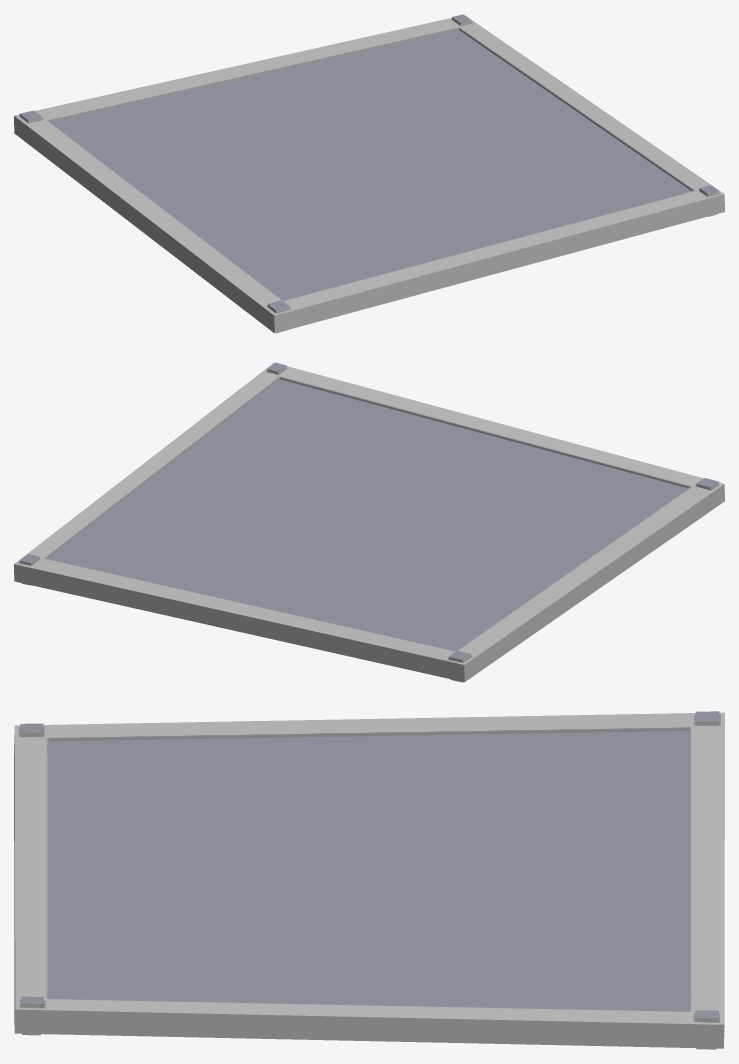
File: resources_alt_metal.fbx
3 renders of one model, top to bottom at view 1: azimuth 30°, elevation 25°; view 2: azimuth 150°, elevation 25°; view 3: azimuth 270°, elevation 25°, orthographic. The views are drawn at different scales.
Parts seen in each view (by area): view 1: AlternateMetal; view 2: AlternateMetal; view 3: AlternateMetal.
Part boxes in pixels (x1,y1,x2,y2): AlternateMetal: (14,14,724,333); AlternateMetal: (14,362,724,682); AlternateMetal: (14,711,724,1049).
Bounding box in the file's own units: 200 × 14.71 × 200.
